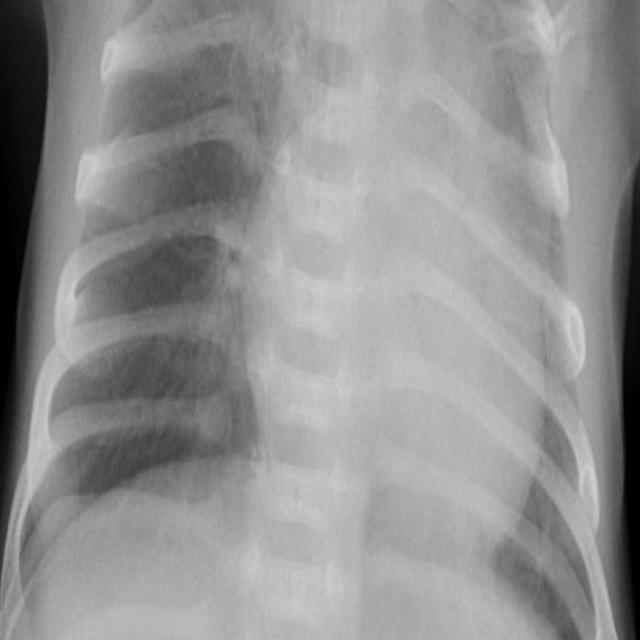low-pneumonia: (482, 4, 562, 229), (184, 176, 250, 441), (213, 5, 293, 150)
